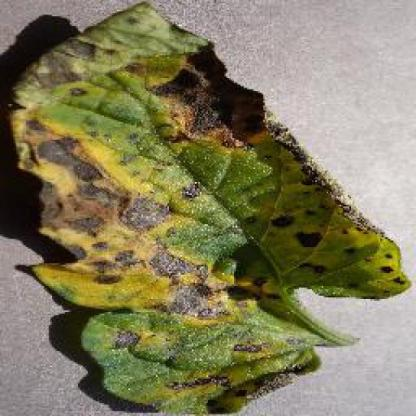Tomato_Blight: (8, 3, 406, 413)
